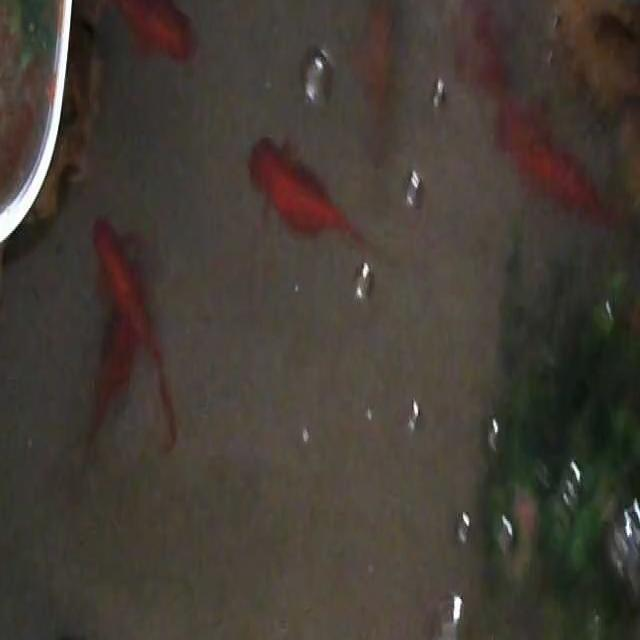fish: (84, 209, 177, 462), (492, 98, 620, 232), (246, 134, 376, 264), (85, 0, 199, 68), (455, 0, 515, 103), (351, 0, 396, 133)
